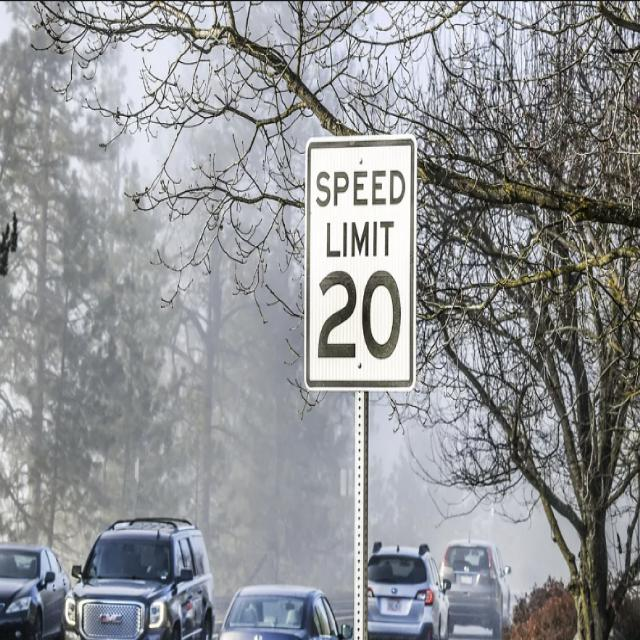speedLimit20: (308, 137, 415, 384)
